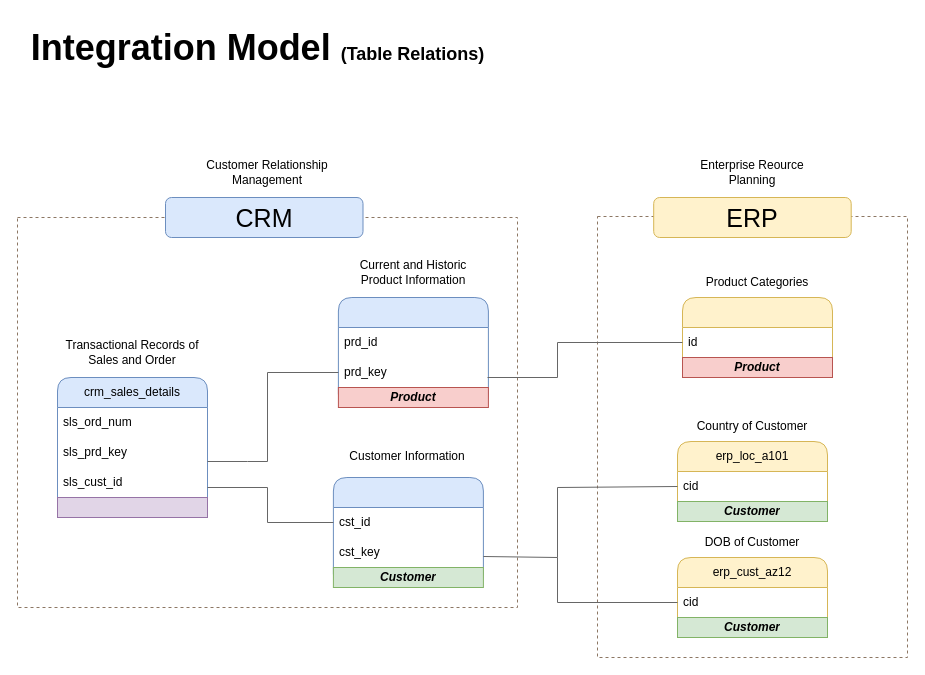
This 925x675 diagram has some shape labels left out. Each missing label, with the box of its shape:
crm_cust_info: (332, 476, 483, 588)
crm_prd_info: (337, 296, 488, 408)
erp_px_cat_g1v2: (682, 296, 832, 378)
Sales: (56, 496, 208, 518)
